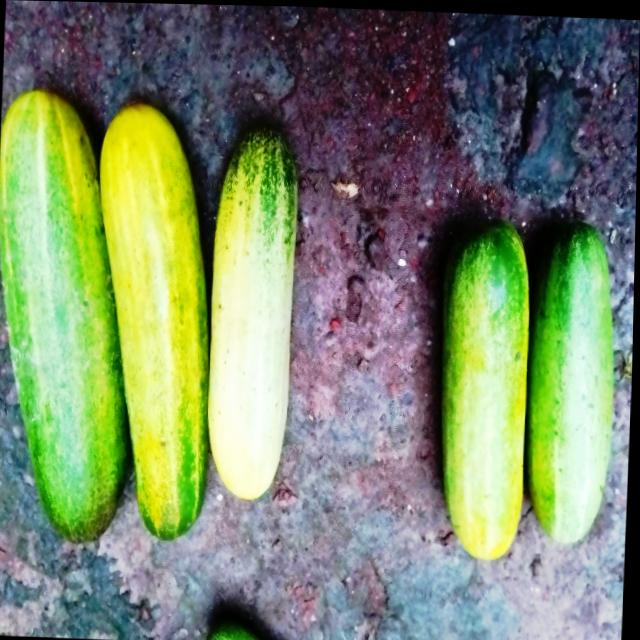Fresh-Cucumber: (0, 86, 143, 550), (87, 100, 221, 544), (206, 123, 304, 502), (440, 220, 536, 563), (528, 216, 624, 547)
